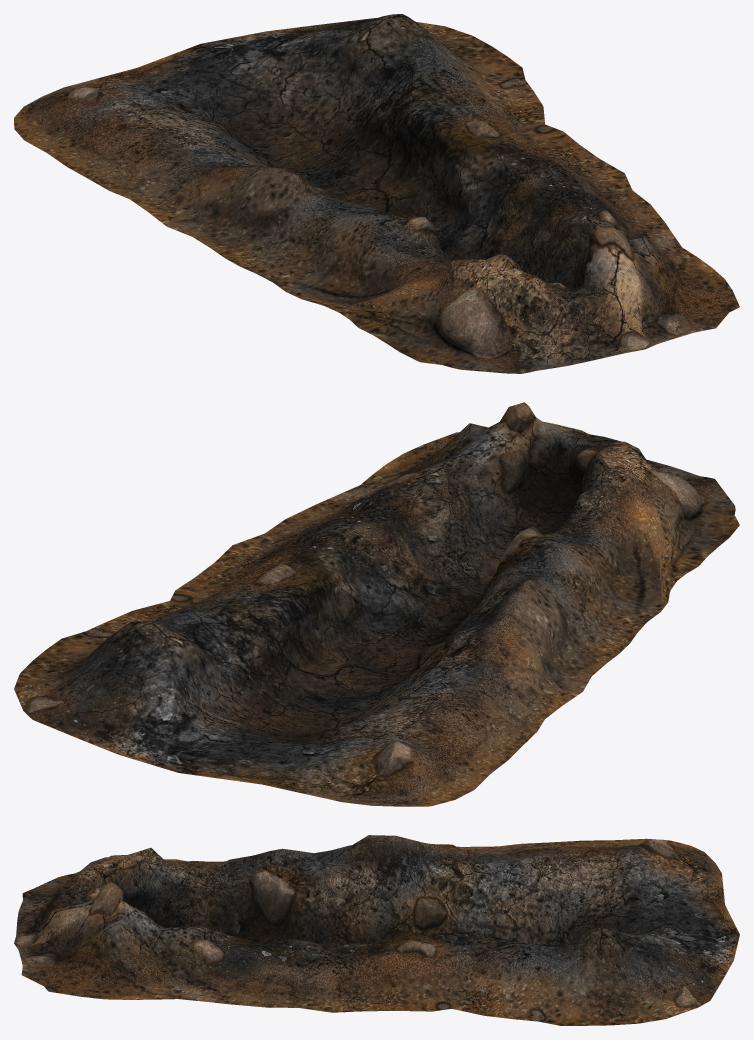
File: crash_furrow_3x7.dae
3 views of the same model, one above another, from view 1: azimuth 30°, elevation 25°; view 2: azimuth 150°, elevation 25°; view 3: azimuth 270°, elevation 25° (orthographic). The views are drawn at different scales.
Parts seen in each view (by area): view 1: crash_furrow_3x7; view 2: crash_furrow_3x7; view 3: crash_furrow_3x7.
Boxes of the visible parts, x1,y1,x2,y2 form: crash_furrow_3x7: (14, 14, 739, 373); crash_furrow_3x7: (14, 402, 739, 806); crash_furrow_3x7: (14, 835, 739, 1025).
Size of the model in its own units: 12.1 by 19.84 by 3.01.
Materials: 1 (1 with a texture image).
